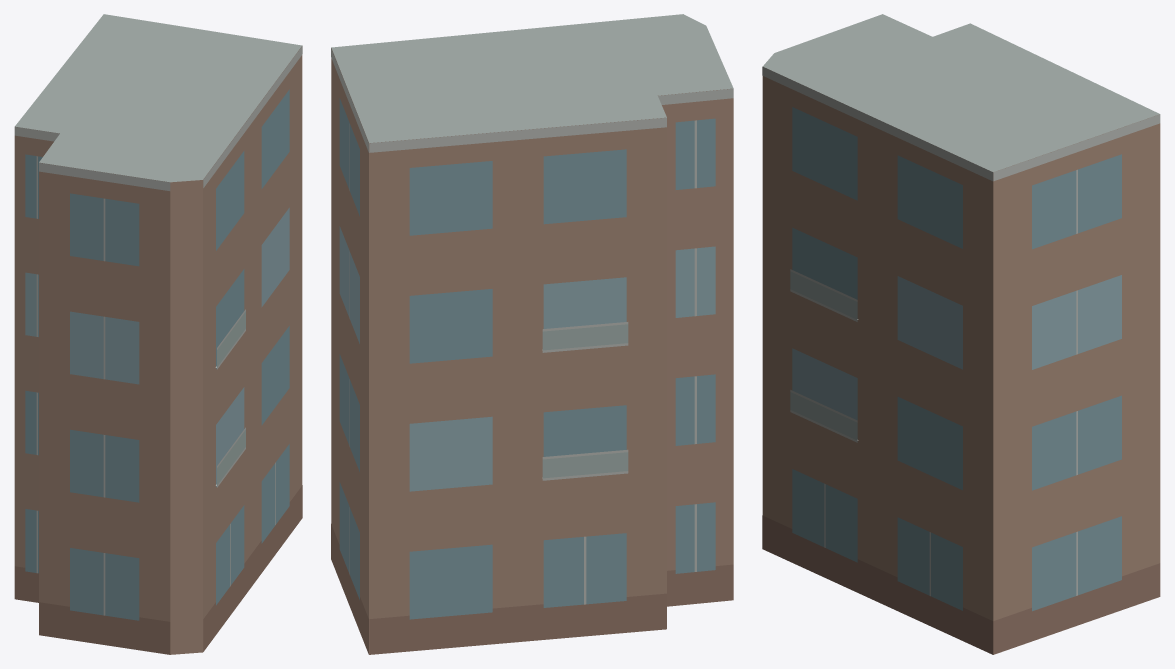
The model's file is survey-upis-32509281.glb.
3 views of the same model, side by side, from view 1: azimuth 30°, elevation 25°; view 2: azimuth 150°, elevation 25°; view 3: azimuth 270°, elevation 25° (orthographic). The views are drawn at different scales.
Parts seen in each view (by area): view 1: survey-upis-32509281.tmp; view 2: survey-upis-32509281.tmp; view 3: survey-upis-32509281.tmp.
Boxes of the visible parts, left/top/right/bottom form: survey-upis-32509281.tmp: left=14, top=14, right=302, bottom=654; survey-upis-32509281.tmp: left=331, top=14, right=733, bottom=654; survey-upis-32509281.tmp: left=762, top=14, right=1160, bottom=654.
Bounding box in the file's own units: 9.01 × 12.8 × 9.57.
